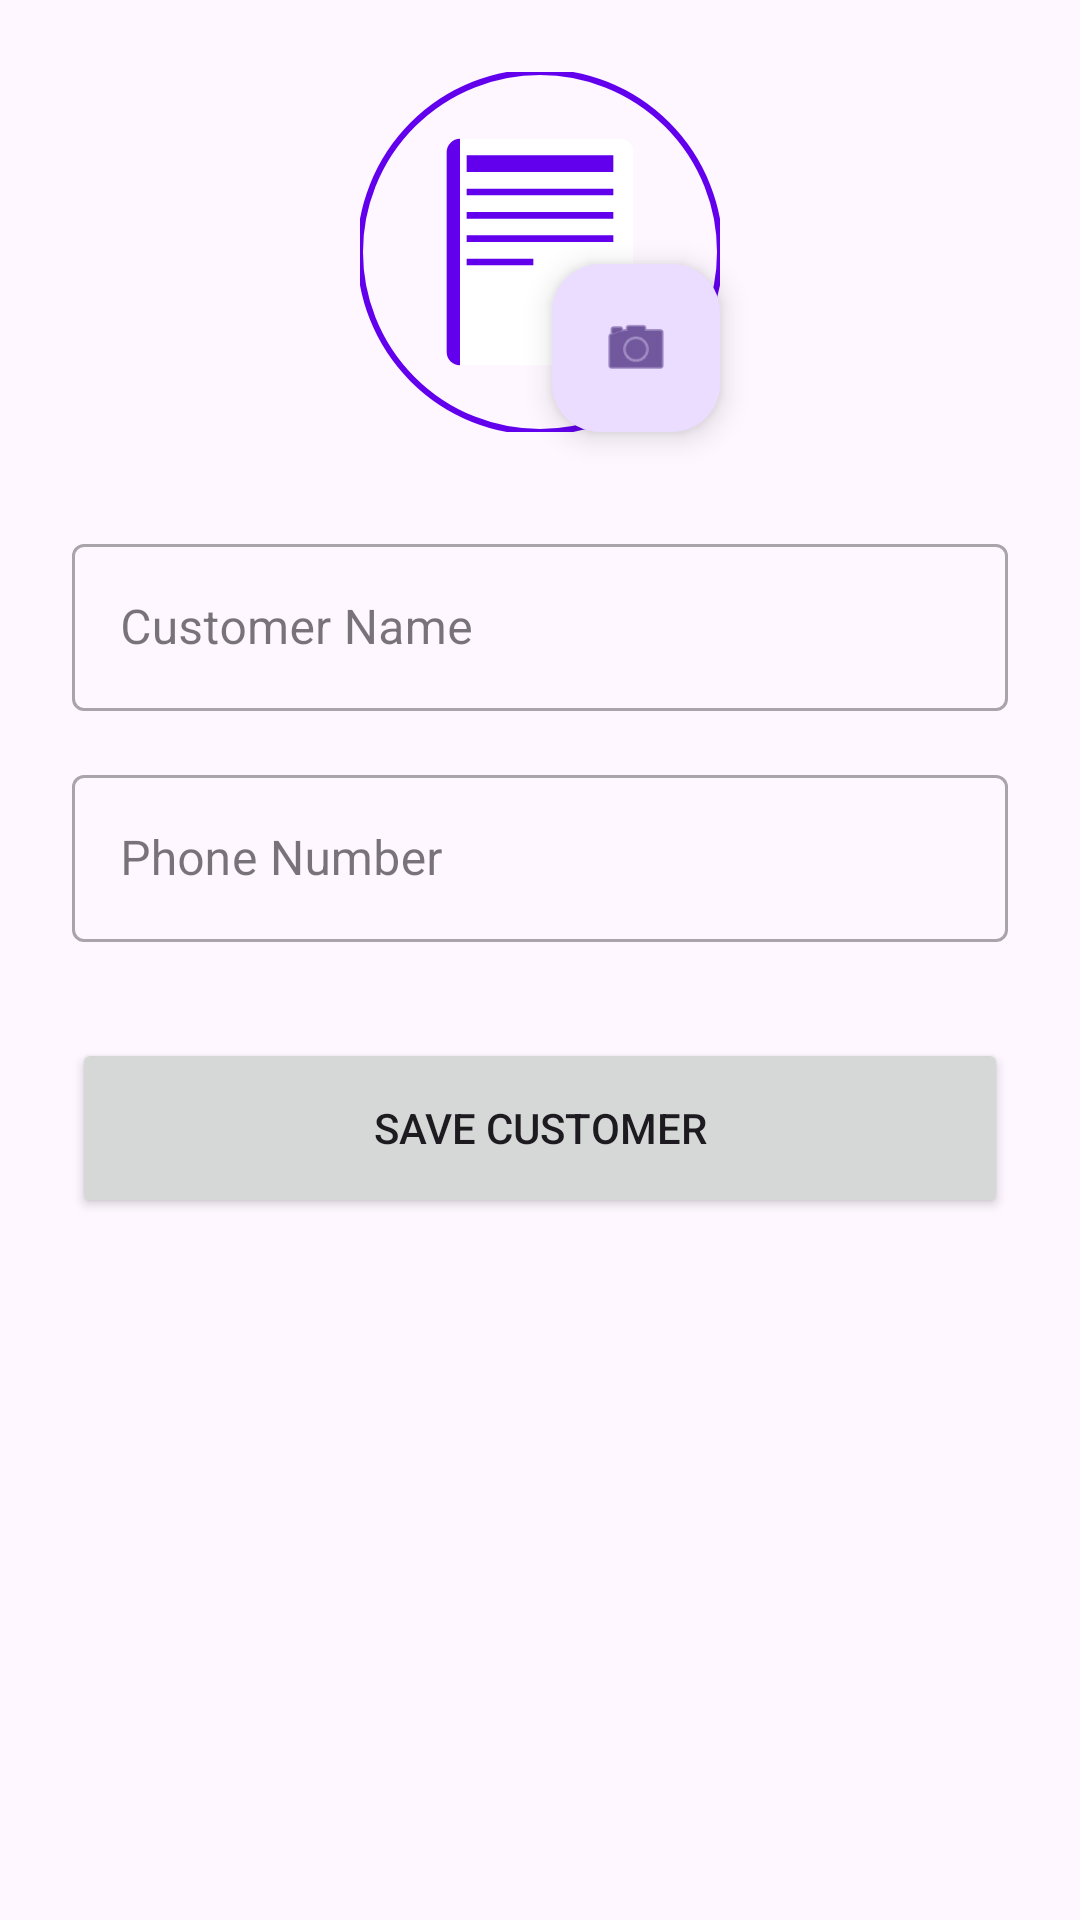

Where to tap for icons on this 1080x1920 app screen, as (x,y):
camera: (636,347)
